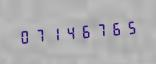five: (122, 16, 136, 38)
four: (62, 21, 76, 44)
one: (47, 22, 61, 45)
seven: (92, 18, 106, 41), (32, 24, 46, 46)
six: (107, 17, 121, 40), (77, 20, 91, 42)
zero: (17, 25, 31, 48)
